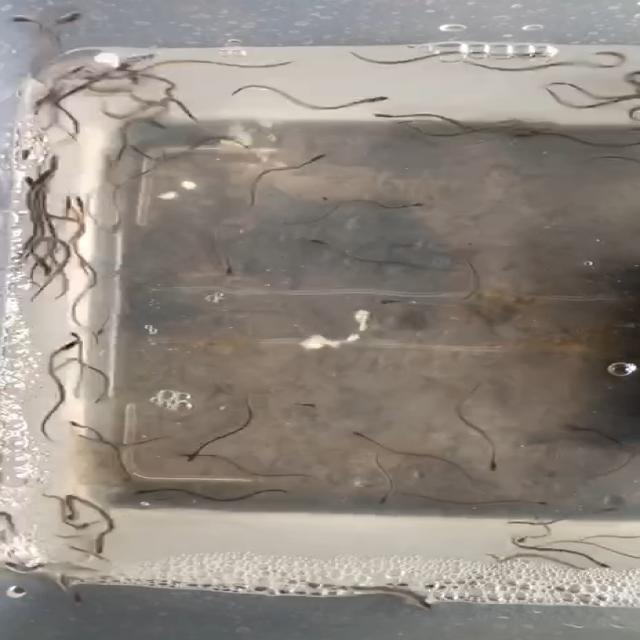inactive_glass_eel: (50, 7, 120, 39), (278, 229, 354, 257), (298, 148, 363, 176), (174, 435, 222, 470), (392, 588, 449, 616), (361, 289, 410, 318), (364, 110, 419, 135), (54, 415, 104, 440), (6, 551, 40, 587), (132, 109, 178, 132), (39, 499, 82, 523), (336, 414, 368, 444), (478, 458, 517, 482), (353, 88, 396, 109), (207, 256, 252, 276), (359, 488, 404, 508), (3, 13, 42, 35), (36, 151, 74, 173), (520, 491, 554, 515), (67, 190, 101, 213), (41, 338, 90, 352), (398, 198, 431, 218), (53, 191, 76, 217), (11, 142, 38, 164), (287, 396, 321, 413), (588, 557, 611, 576)
